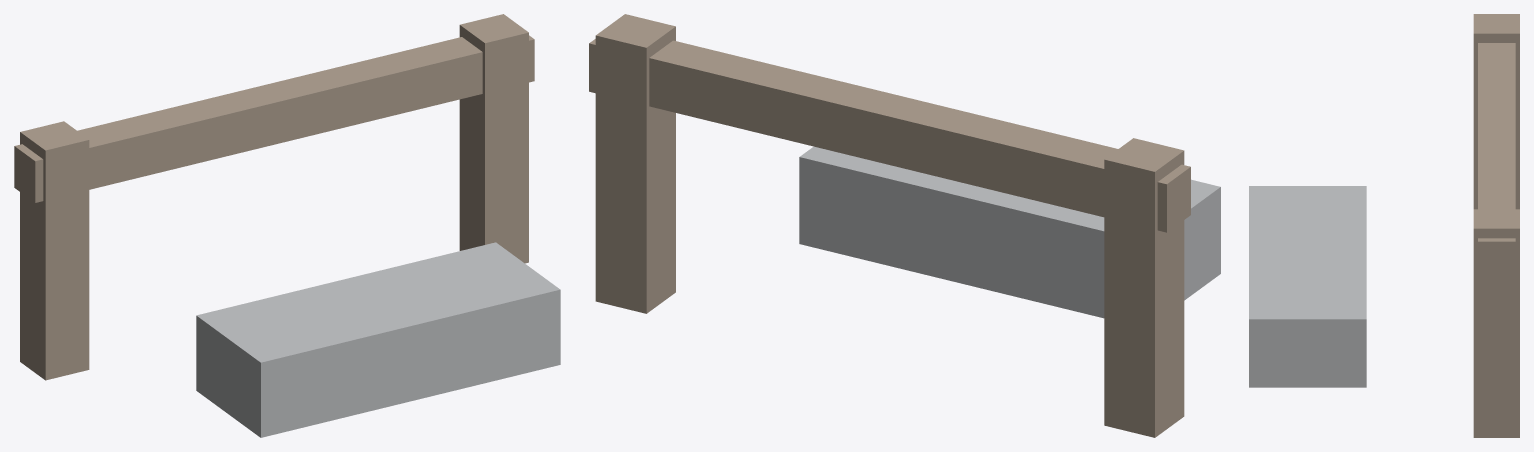
The model's file is prop_trough.glb.
3 renders of one model, left to right at view 1: azimuth 30°, elevation 25°; view 2: azimuth 150°, elevation 25°; view 3: azimuth 270°, elevation 25°, orthographic. The views are drawn at different scales.
Parts seen in each view (by area): view 1: prop_trough; view 2: prop_trough; view 3: prop_trough.
Boxes of the visible parts, left/top/right/bottom form: prop_trough: left=14, top=14, right=560, bottom=437; prop_trough: left=589, top=14, right=1220, bottom=437; prop_trough: left=1249, top=14, right=1519, bottom=437.
Size of the model in its own units: 0.125 by 0.055 by 0.0645.
